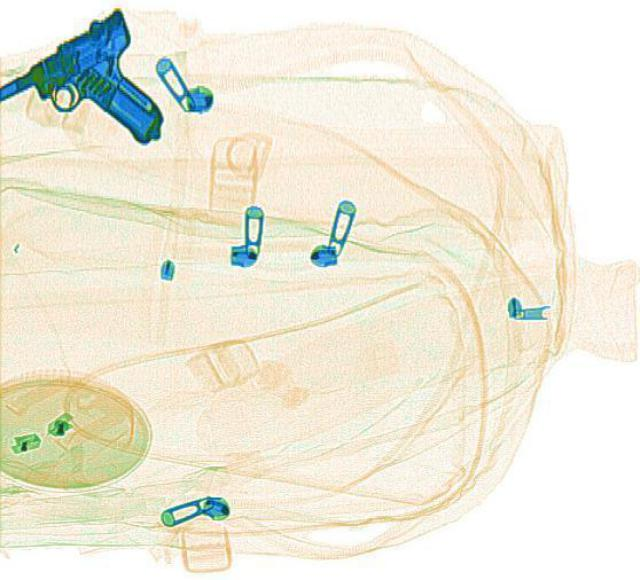Gun: (0, 4, 198, 169)
